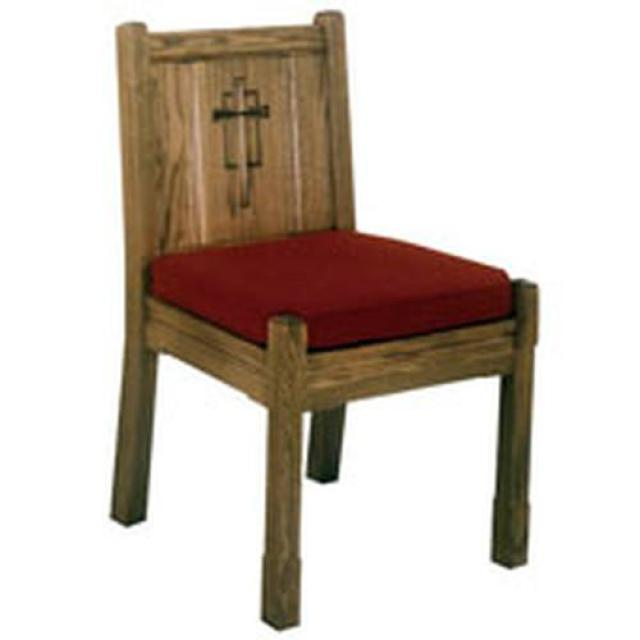chair: (109, 12, 539, 632)
